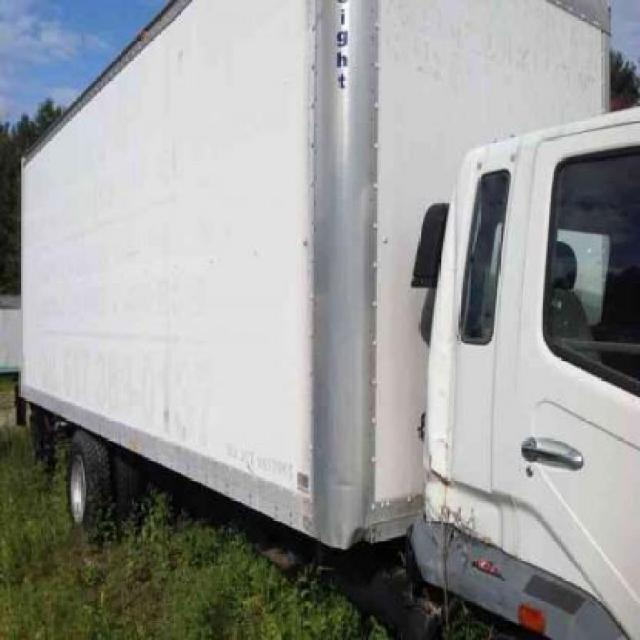truck: (1, 1, 639, 638)
